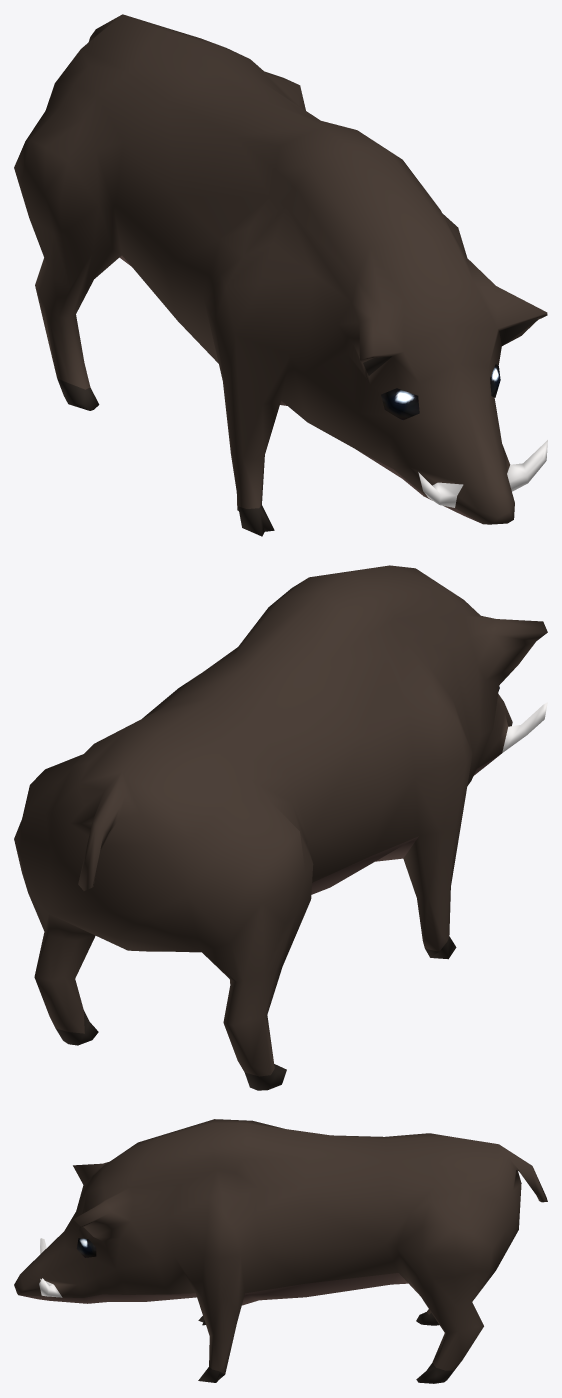
File: WildBoar.glb
3 views of the same model, one above another, from view 1: azimuth 30°, elevation 25°; view 2: azimuth 150°, elevation 25°; view 3: azimuth 270°, elevation 25° (orthographic). The views are drawn at different scales.
Visible parts, largest first — view 1: WildBoar; view 2: WildBoar; view 3: WildBoar.
Part boxes in pixels (<box>): WildBoar: <box>14,14,547,536</box>; WildBoar: <box>14,565,547,1090</box>; WildBoar: <box>14,1119,547,1383</box>.
Size of what is drawn, in the model's own units: 0.6397 by 0.8176 by 1.74.
2 materials, 2 textured.
